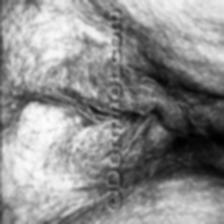Non-Cancerous Skin Condition: (16, 110, 110, 178)
